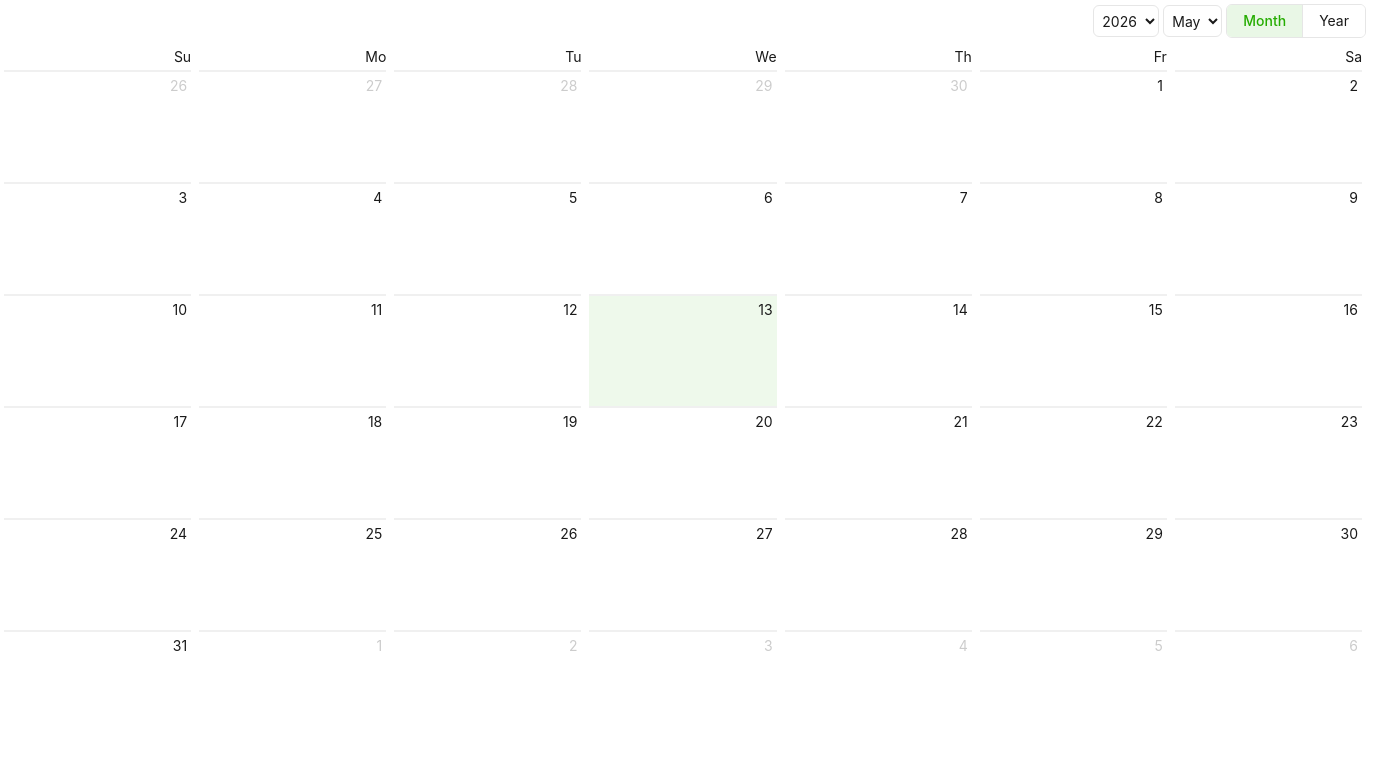
Test: Calendar Component › switches to year mode when Year button is clicked
Click the button "Year" at (1334, 21), box [1303,5,1365,37]
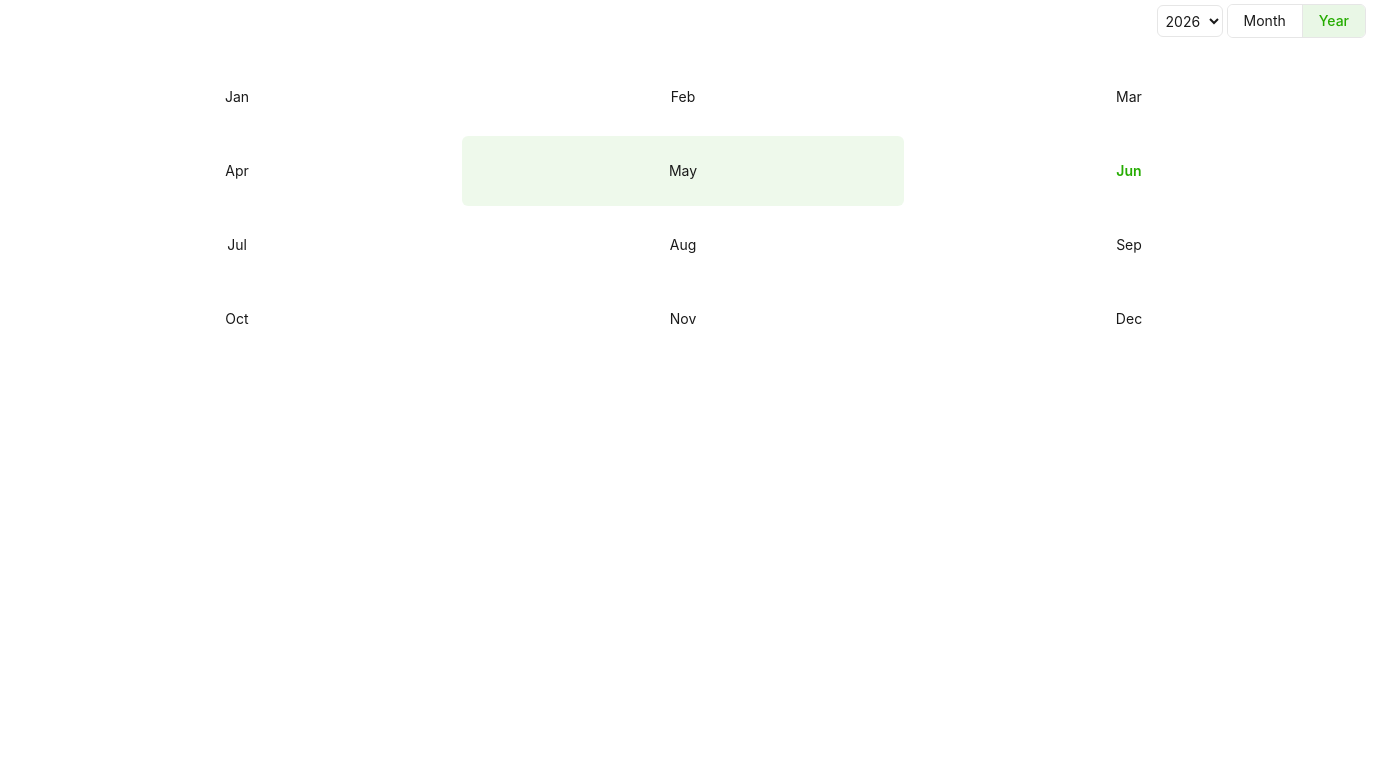
Expected: the text "Jan" is shown, [225,88,249,105]
Expected: the text "Dec" is shown, [1116,310,1142,327]
